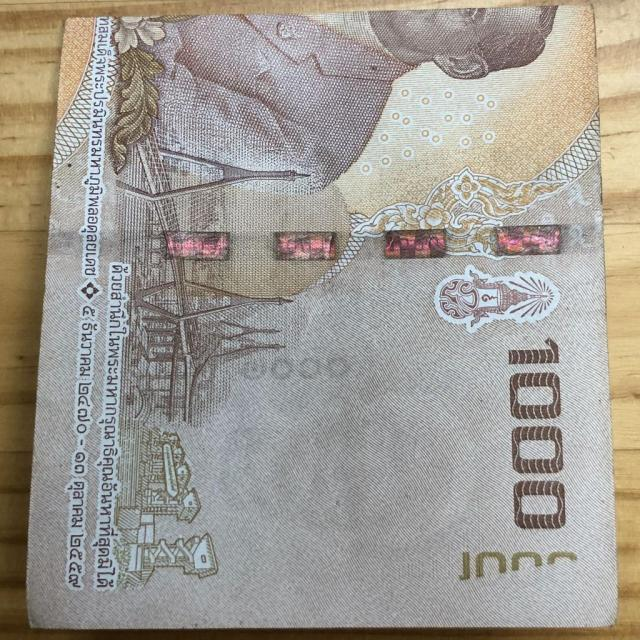THAI1000: (26, 6, 617, 628)
